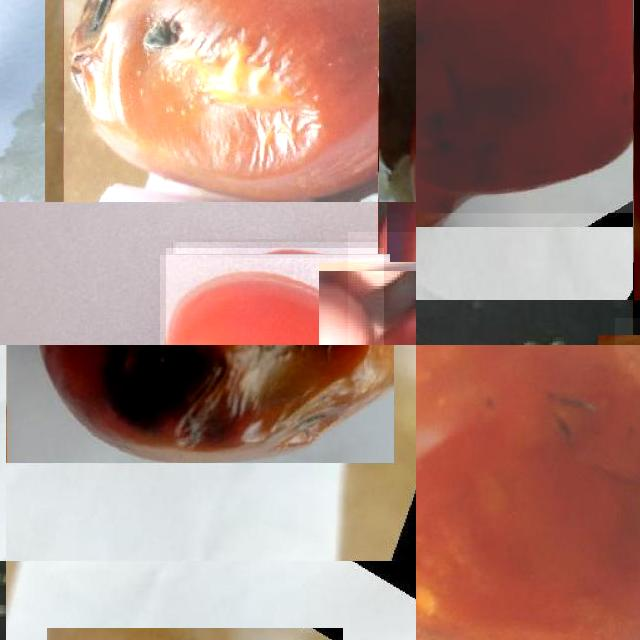Fresh Tomato: (165, 248, 384, 345)
Rotten Tomato: (416, 345, 640, 640), (63, 0, 378, 202), (416, 0, 633, 213), (6, 345, 394, 463)
